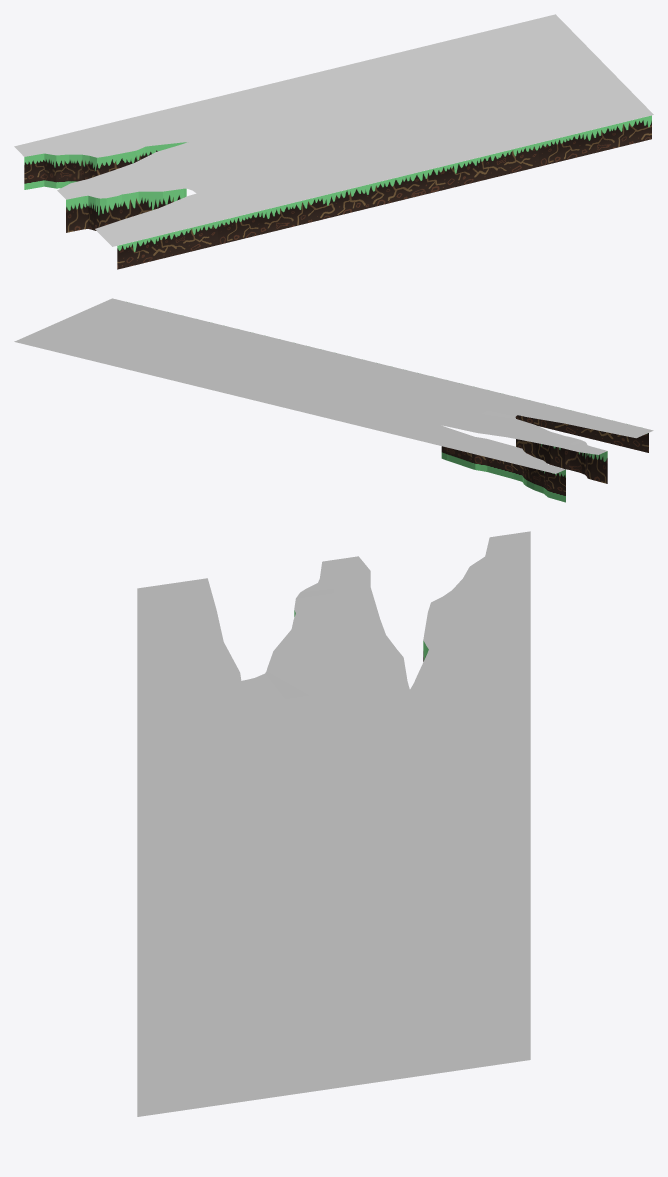
Rendered from Floor.fbx.
3 renders of one model, top to bottom at view 1: azimuth 30°, elevation 25°; view 2: azimuth 150°, elevation 25°; view 3: azimuth 270°, elevation 25°, orthographic. The views are drawn at different scales.
Parts seen in each view (by area): view 1: FloorFront.003; view 2: FloorFront.003; view 3: FloorFront.003.
Boxes of the visible parts, x1,y1,x2,y2 form: FloorFront.003: (14, 14, 653, 269); FloorFront.003: (14, 298, 653, 502); FloorFront.003: (137, 531, 530, 1116).
Bounding box in the file's own units: 228 × 21.07 × 71.61.
